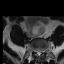CCS_stenosis: (37, 49, 40, 57)
LFS_normal: (42, 47, 44, 55)
LLS_normal: (40, 49, 42, 57)
RFS_stenosis: (33, 47, 35, 54)
RLS_normal: (35, 48, 37, 56)
